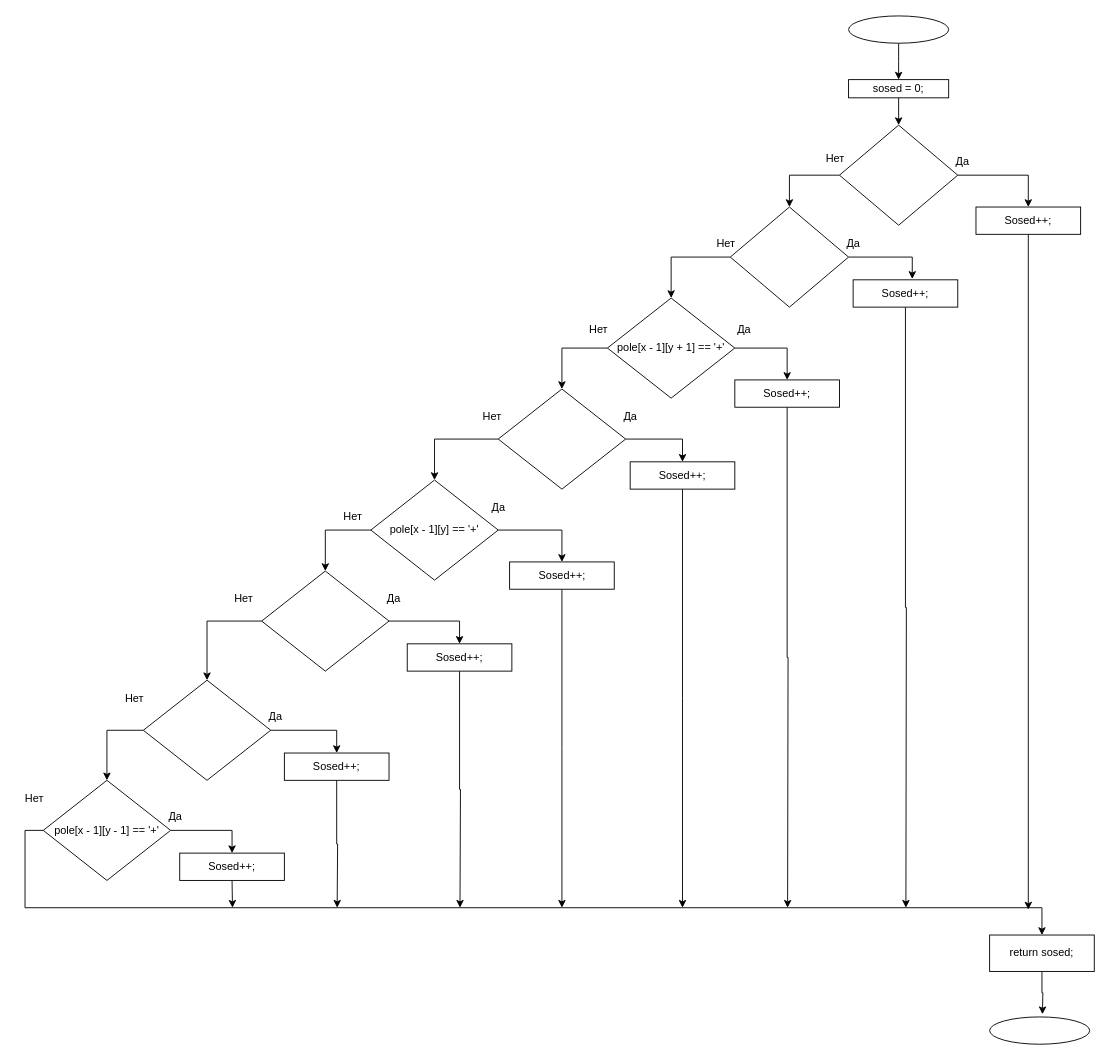
The diagram is 1110 pixels wide and 1060 high, and some of its shapes have lost their labels. Each missing label, with the centre of its shape:
"pole[x + 1][y + 1] == '+'" goes at point (898, 174).
"pole[x + 1][y-1] == '+'" goes at point (325, 620).
"pole[x+1][y] == '+'" goes at point (561, 438).
"pole[x][y + 1] == '+'" goes at point (789, 256).
"pole[x][y - 1] == '+'" goes at point (206, 729).
"Конец" goes at point (1039, 1030).
"Начало" goes at point (898, 29).
